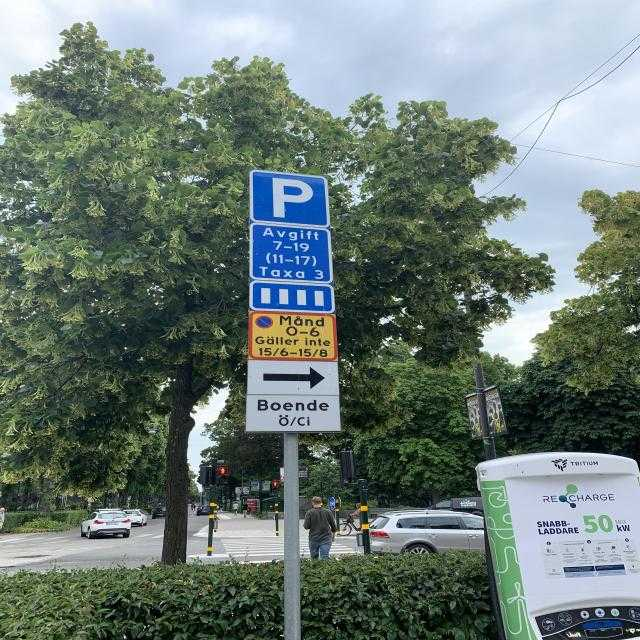lastplats: (247, 167, 334, 229)
